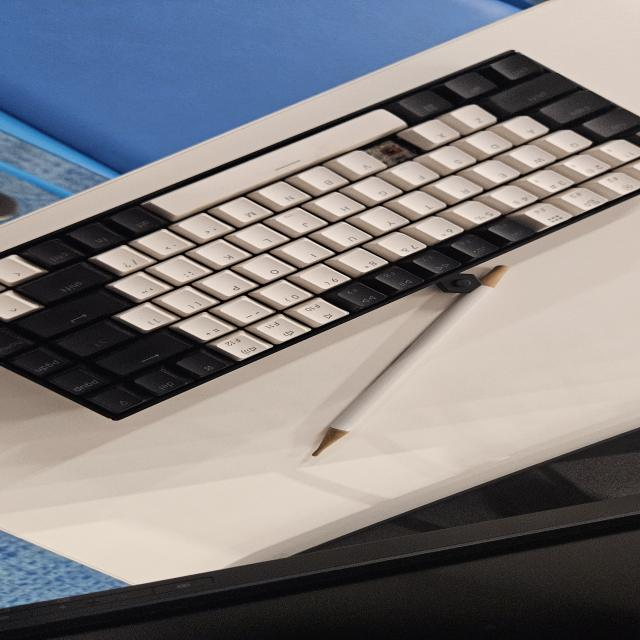C: (373, 142, 411, 160)
